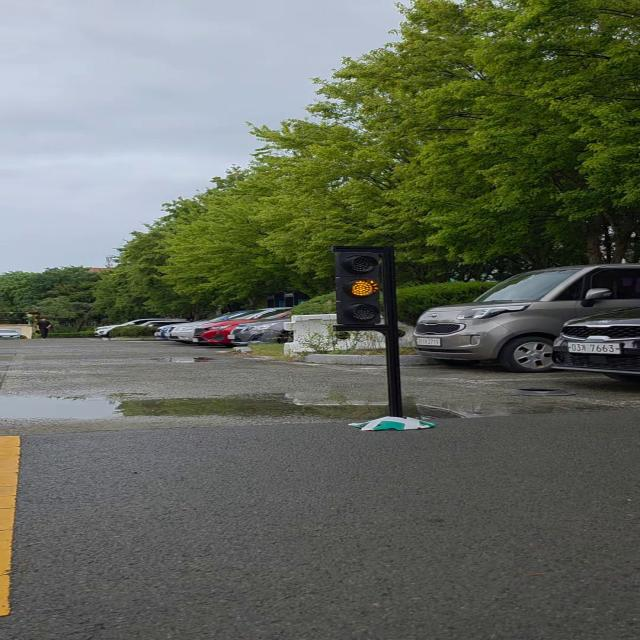yellow: (331, 246, 398, 332)
